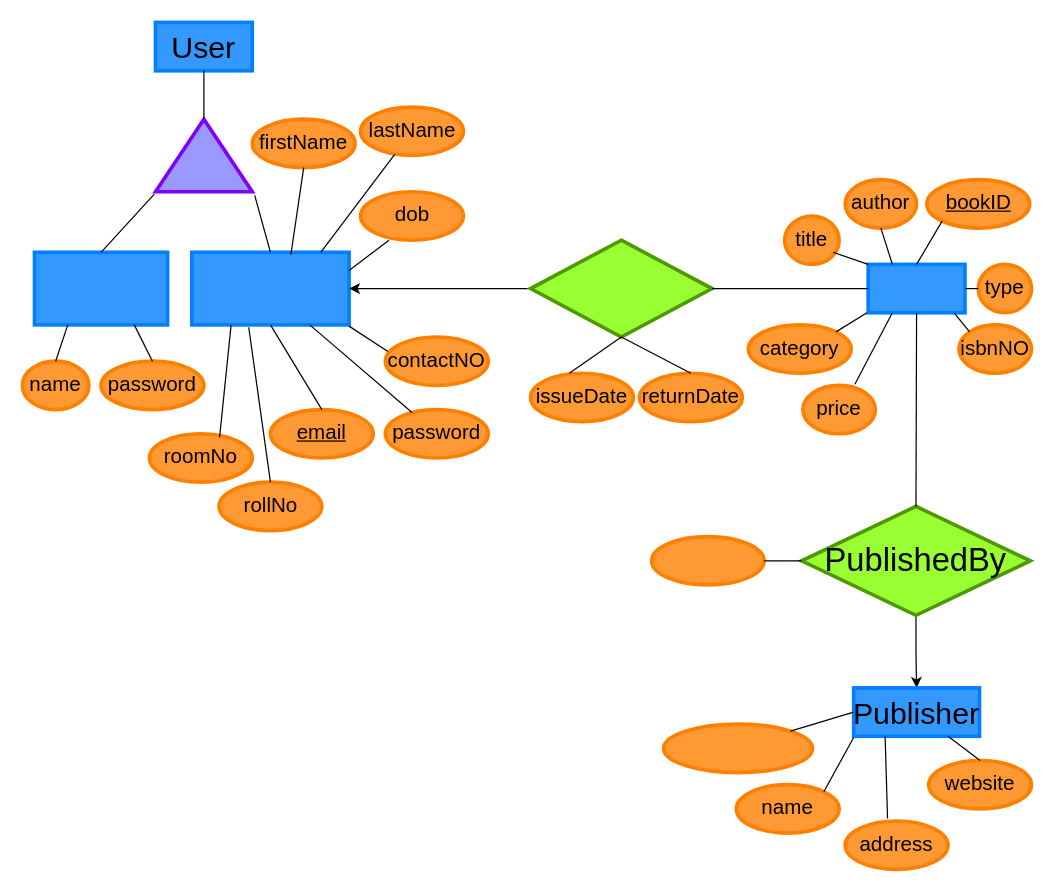
Some shapes in this 1054 by 892 pixel diagram are drawn without their labels. Each missing label, with the centre of its shape:
"Book" belongs at point 916,288.
"isA" belongs at point 203,155.
"Issues" belongs at point 620,288.
"Library Admin" belongs at point 100,288.
"Library Member" belongs at point 269,288.
"publishDate" belongs at point 707,560.
"publisherID" belongs at point 737,748.
